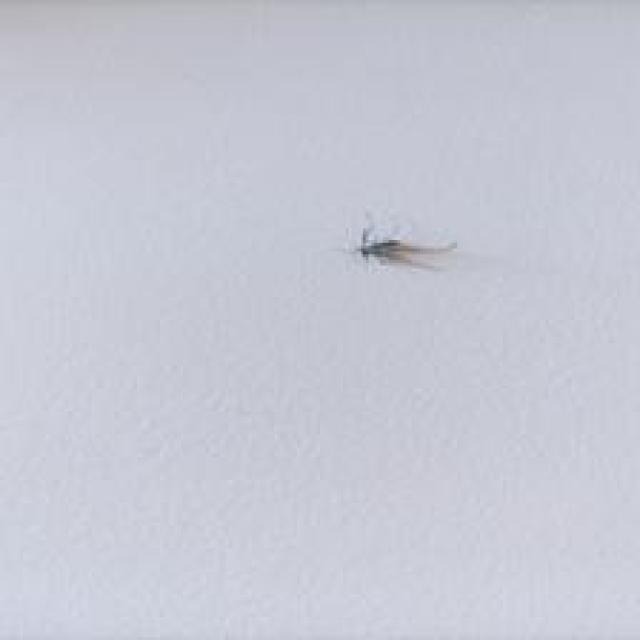Aedes albopictus: (353, 226, 458, 268)
